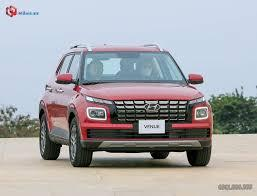hyundai: (142, 100, 164, 114)
